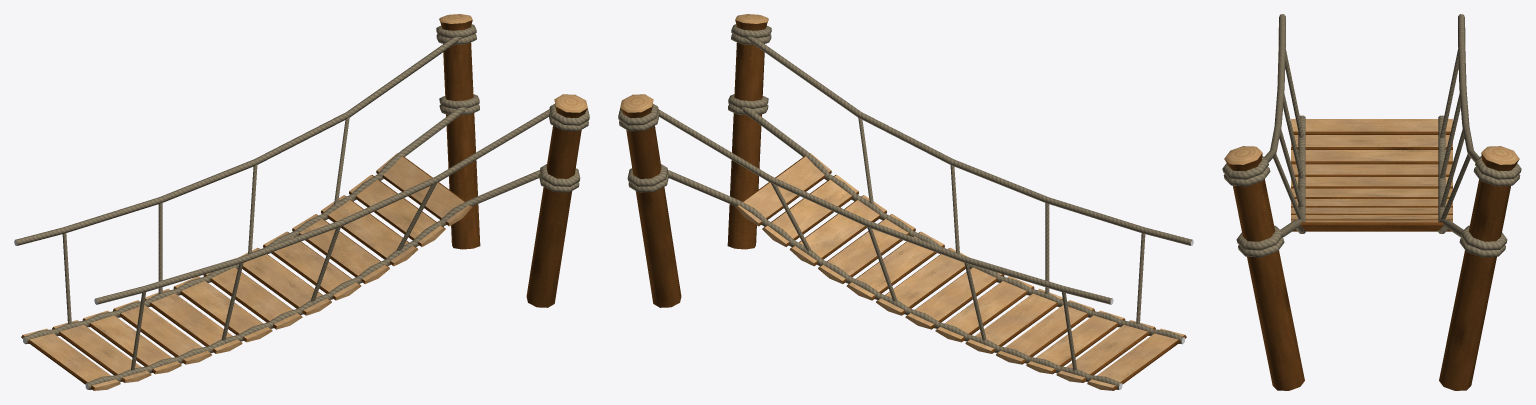
File: Prop_Bridge_Rope_End_Basic_1x3.glb
3 renders of one model, left to right at view 1: azimuth 30°, elevation 25°; view 2: azimuth 150°, elevation 25°; view 3: azimuth 270°, elevation 25°, orthographic. The views are drawn at different scales.
Parts seen in each view (by area): view 1: Prop_Bridge_Rope_End_Basic_1x3; view 2: Prop_Bridge_Rope_End_Basic_1x3; view 3: Prop_Bridge_Rope_End_Basic_1x3.
Boxes of the visible parts, x1=… form: Prop_Bridge_Rope_End_Basic_1x3: x1=14, y1=14, x2=589, y2=390; Prop_Bridge_Rope_End_Basic_1x3: x1=618, y1=14, x2=1193, y2=390; Prop_Bridge_Rope_End_Basic_1x3: x1=1222, y1=14, x2=1521, y2=390.
Size of the model in its own units: 312 by 135 by 152.
Materials: 5 (4 with a texture image).
